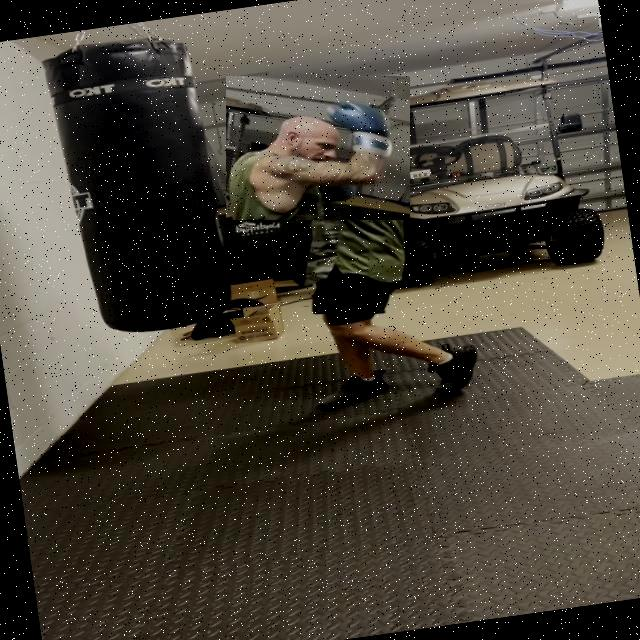punch: (226, 76, 410, 220)
